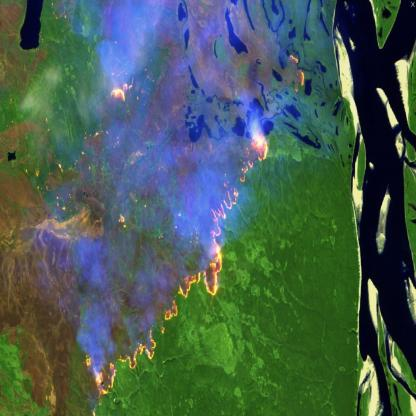fire: (35, 0, 306, 416)
